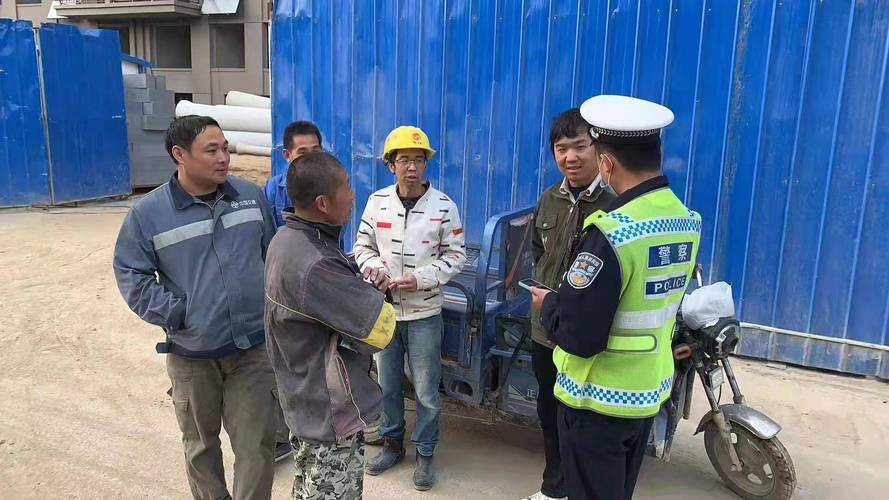driver: (513, 104, 604, 332)
overloading: (141, 55, 538, 423)
passenger: (350, 112, 475, 450), (219, 137, 365, 426), (177, 104, 286, 459), (260, 103, 315, 202)
